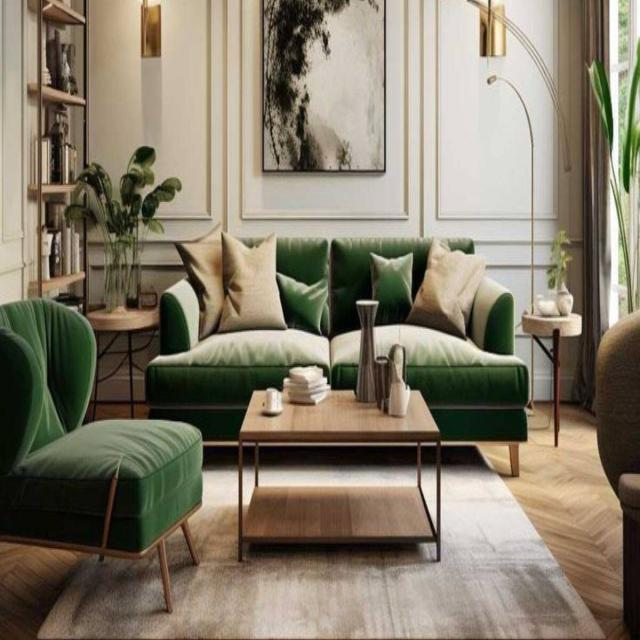sofa: (144, 231, 529, 477), (0, 264, 206, 613)
